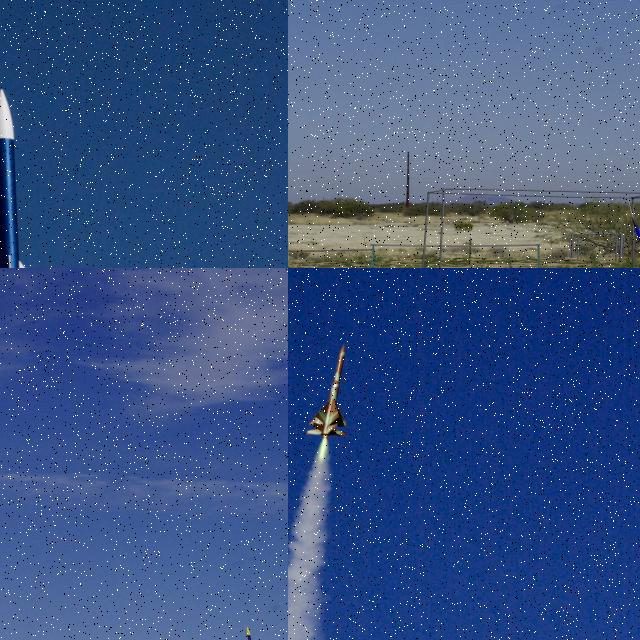Rocket: (0, 88, 37, 268), (306, 344, 348, 438), (632, 217, 640, 265), (246, 626, 261, 640)
